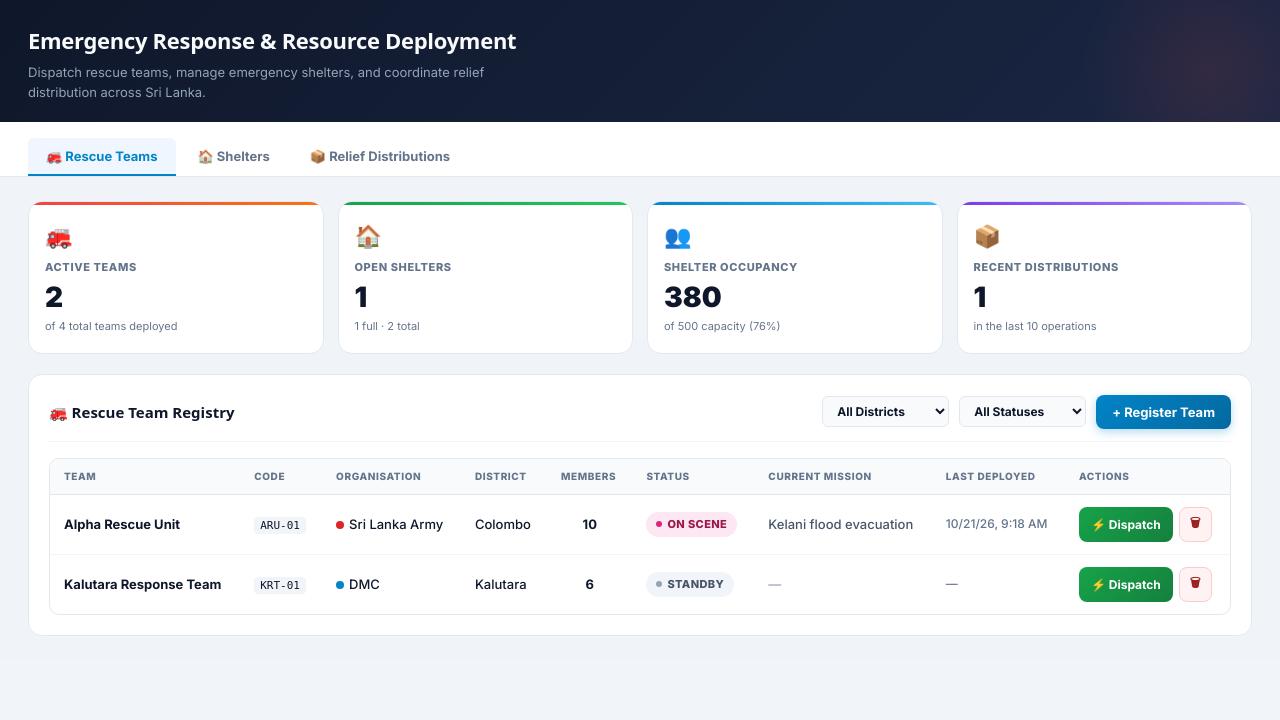
Test case: EmergencyCoordinationDashboard – Tab Navigation › TC-EC-06: Clicking Distributions tab shows distribution records
This screenshot has width=1280, height=720.
Expected: the text "Alpha Rescue Unit" is shown, [50,494,240,554]
Click the button "📦 Relief Distributions": (380, 157) [292,138,468,176]
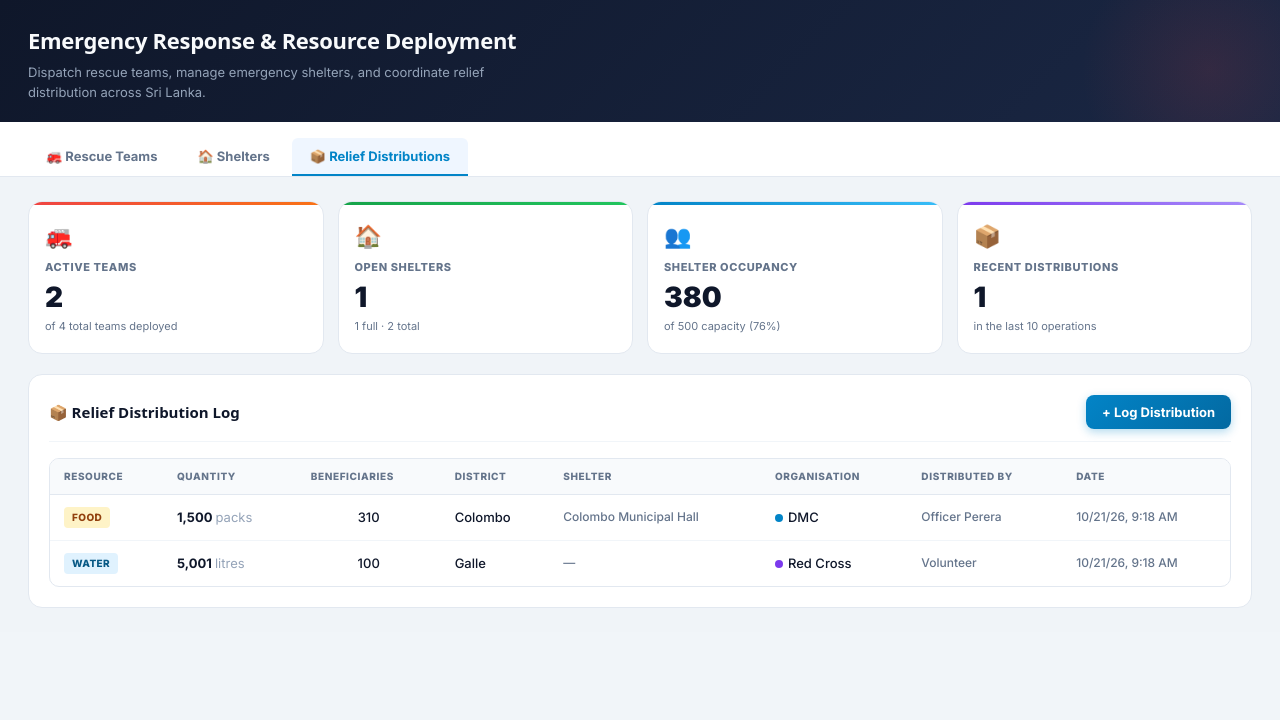
Now the text "Officer Perera" is shown, box [907,494,1062,540]
